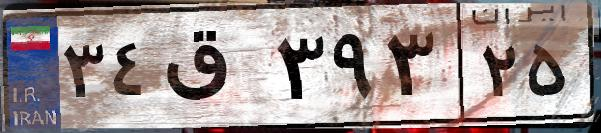2: (475, 38, 525, 113)
3: (270, 28, 330, 110), (385, 28, 445, 110), (57, 26, 110, 100)
4: (110, 28, 158, 98)
5: (525, 38, 570, 115)
9: (330, 28, 385, 110)
ق: (158, 20, 270, 120)
